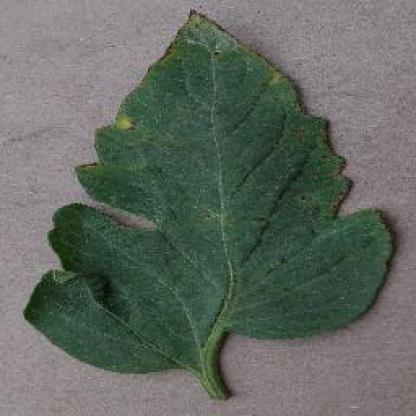bad leaf: (80, 8, 404, 356)
